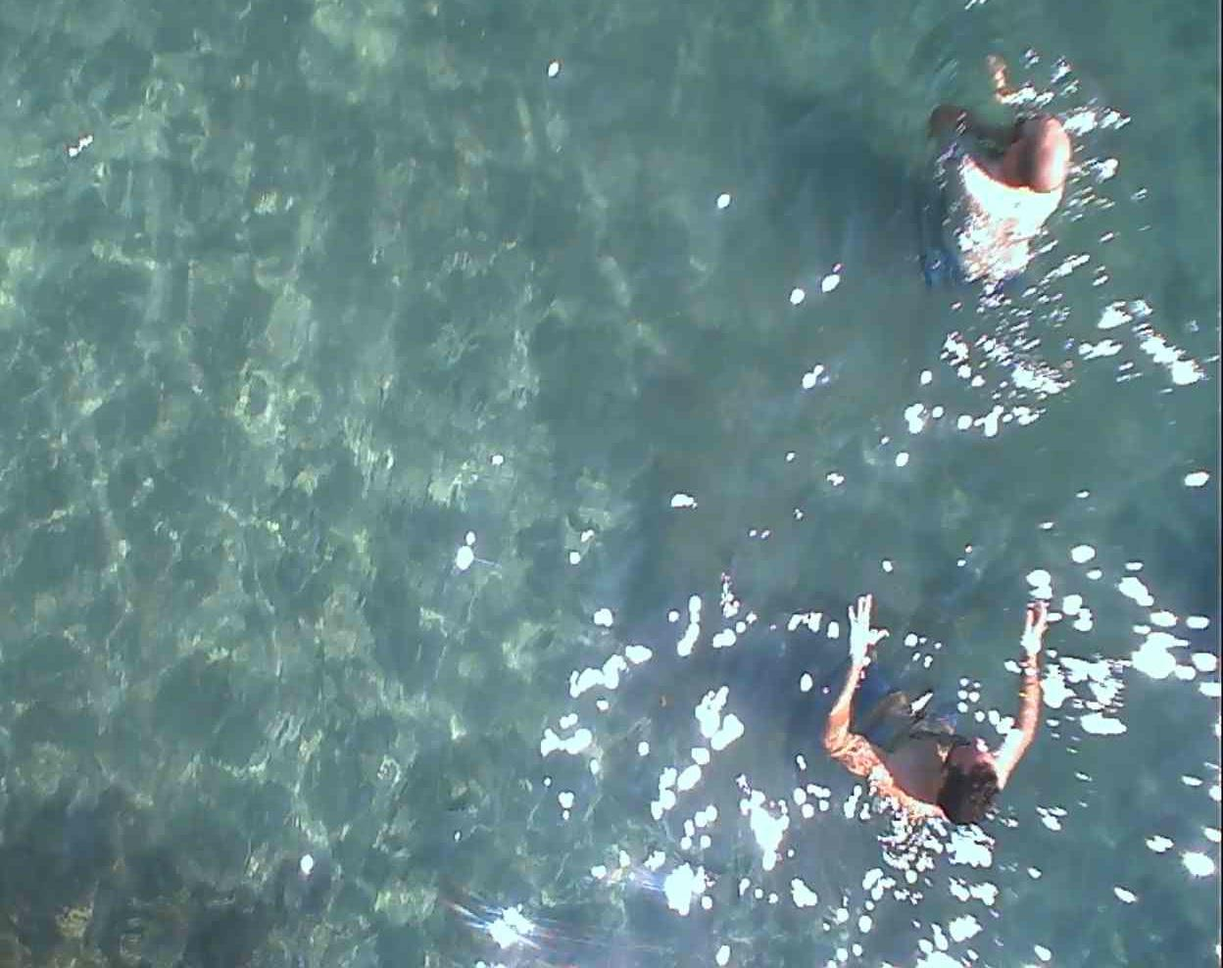human: (812, 528, 1045, 832), (907, 55, 1078, 383)
